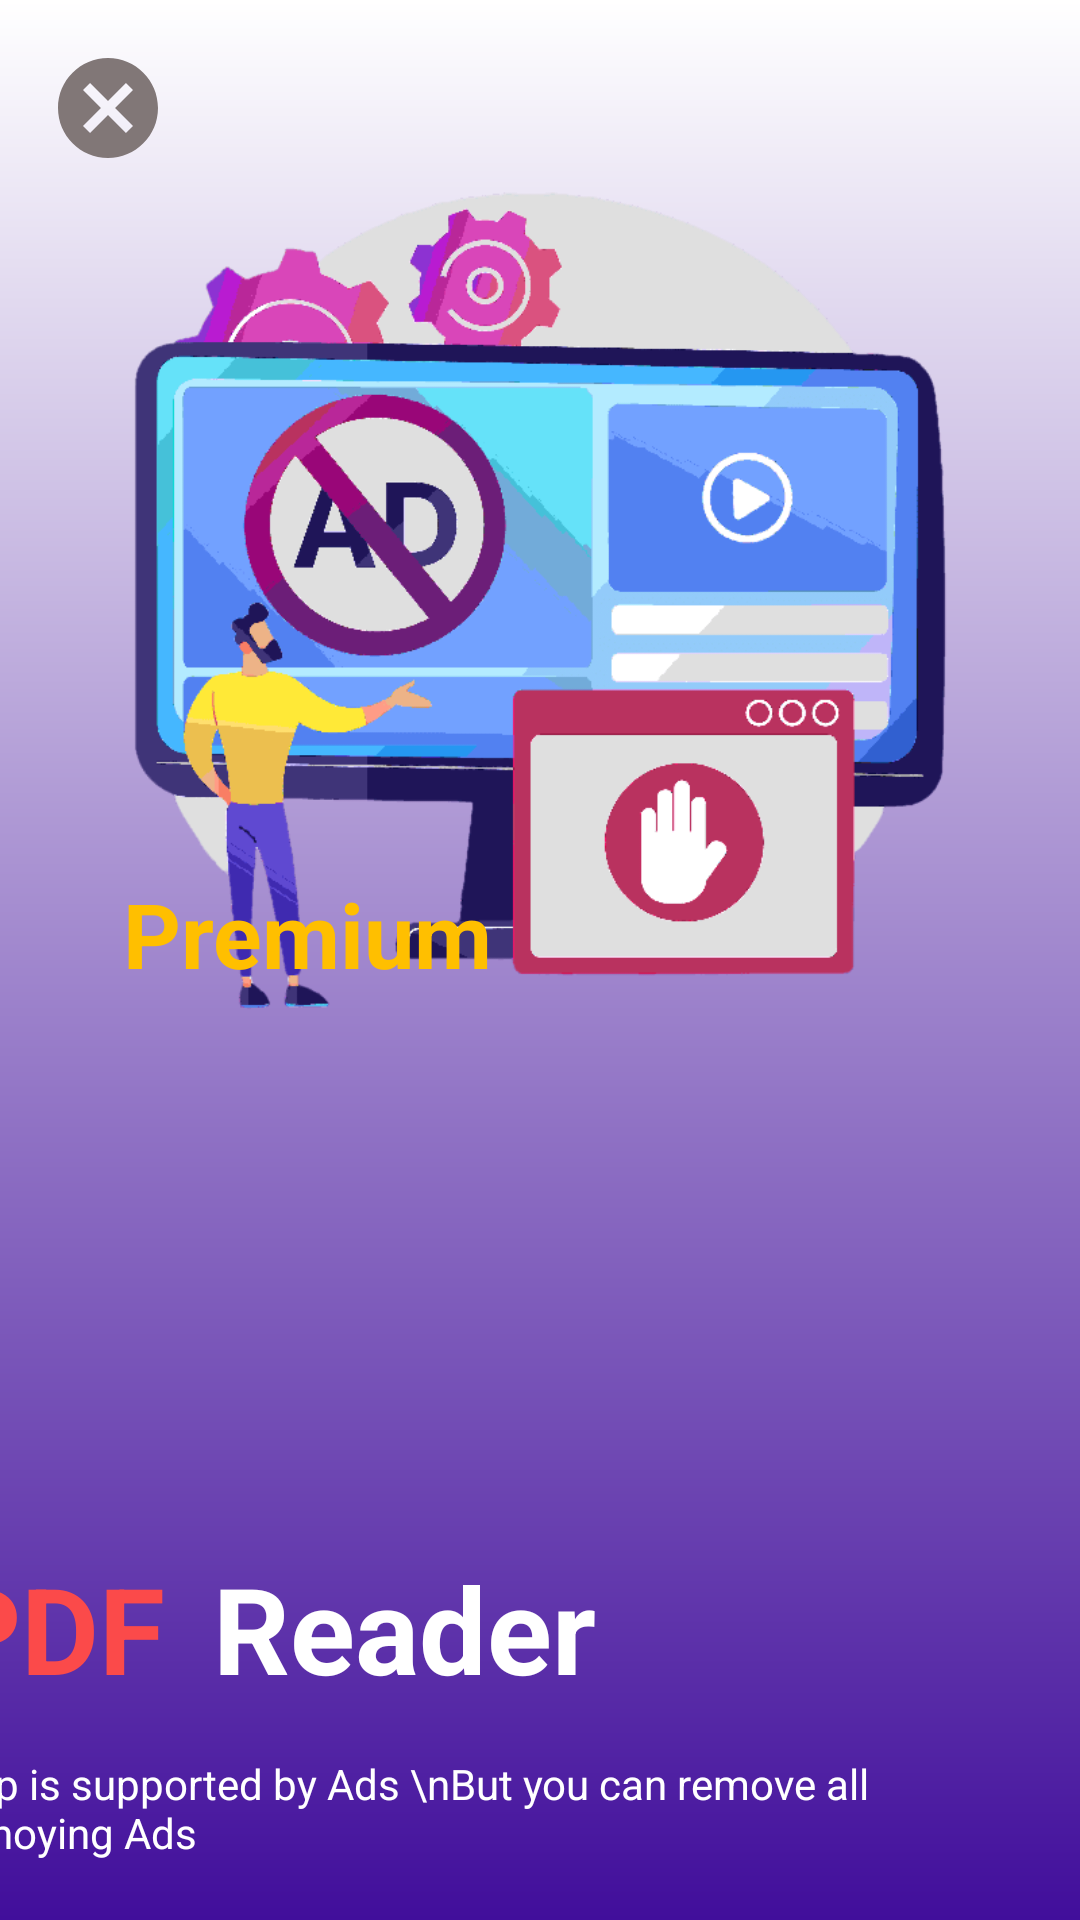

Icons on this 1080px×1920px Android screen, each with its box as (x1, y1, x2, y2):
cancel: (58, 58, 158, 158)
